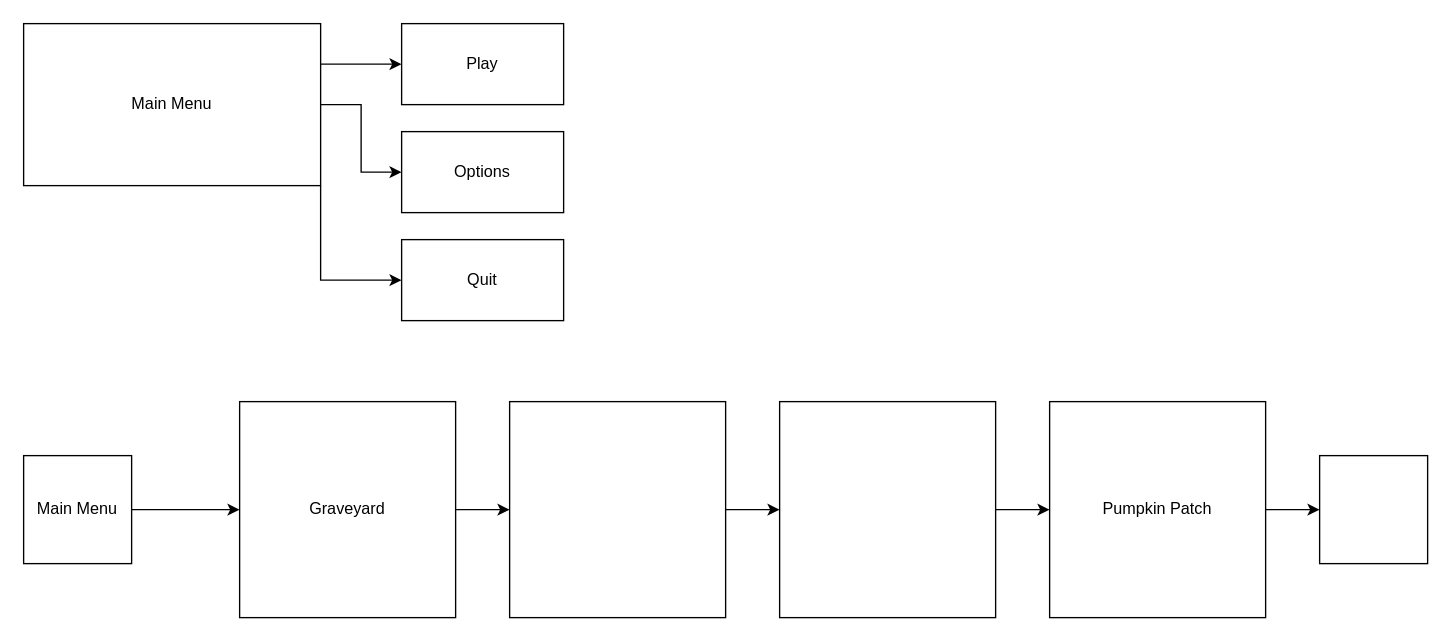
Some shapes in this 1451 by 641 pixel diagram are drawn without their labels. The shapes that lost their labels are listed below. From the top down, each one's box as (x1, y1, x2, y2) in pixels, then its label:
(508, 400, 726, 618): Level 2
(778, 400, 996, 618): Library
(1318, 454, 1428, 564): End Screen
